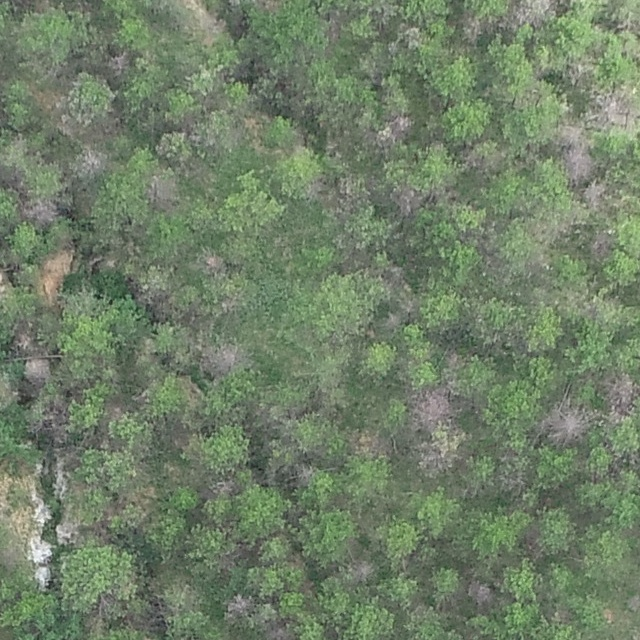unhealthy: (65, 72, 118, 123), (584, 84, 638, 133), (539, 403, 595, 447), (416, 428, 467, 476), (179, 0, 226, 47), (37, 250, 74, 308), (525, 206, 578, 245), (599, 371, 640, 421), (500, 0, 558, 31), (409, 387, 452, 428), (28, 397, 71, 438), (389, 182, 434, 217), (84, 592, 119, 636), (335, 174, 370, 217), (19, 197, 60, 231), (146, 174, 181, 213), (459, 140, 503, 171), (198, 343, 241, 374), (348, 426, 389, 458), (564, 144, 594, 185), (454, 7, 487, 44), (173, 373, 207, 407), (71, 145, 107, 176), (376, 115, 414, 143), (580, 180, 612, 213), (22, 356, 53, 390), (567, 53, 598, 86), (224, 590, 257, 620), (128, 610, 166, 636), (202, 476, 238, 502), (119, 484, 159, 507), (554, 123, 585, 149), (106, 47, 132, 77), (260, 623, 302, 640), (591, 227, 613, 259), (350, 557, 378, 582), (467, 580, 492, 606), (403, 23, 424, 52), (13, 324, 35, 349), (379, 312, 405, 333), (293, 463, 318, 482), (203, 254, 223, 269)
